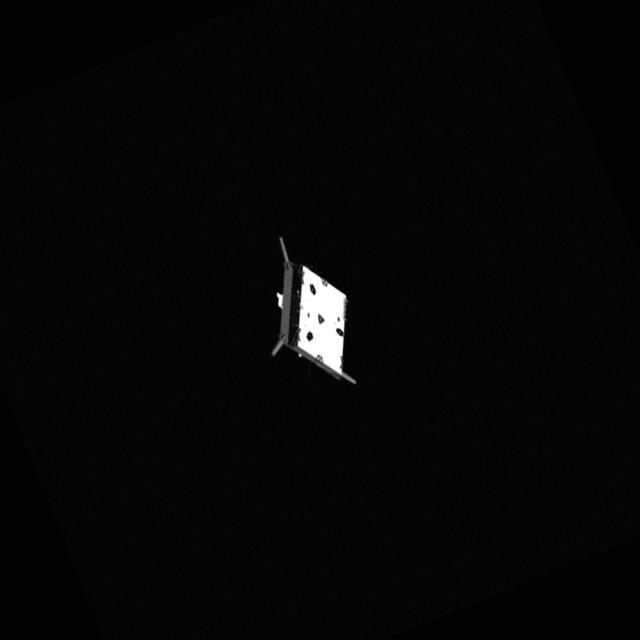medium_debris: (260, 228, 368, 394)
